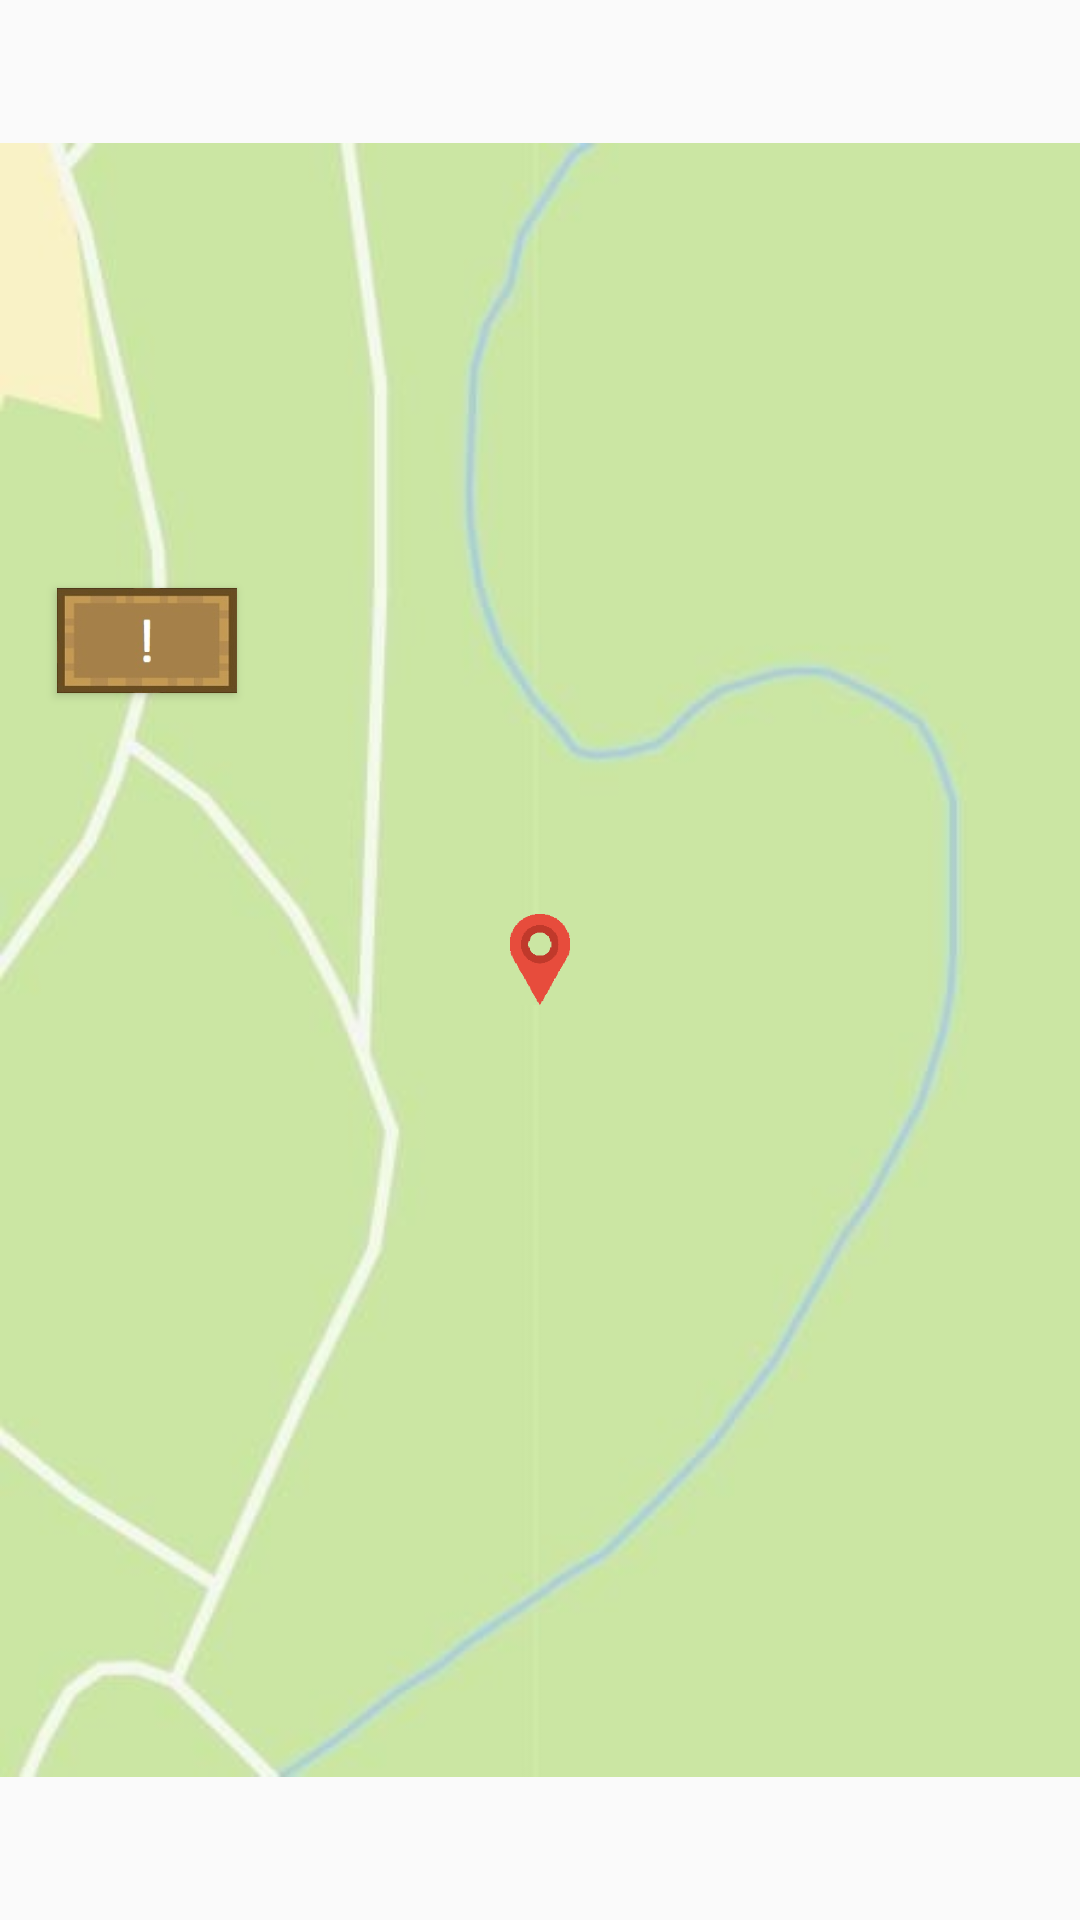

Point at icon controls on the screen. Image size 1080×1920, points as [x,y].
marker: [540,959]
sign: [147,640]
